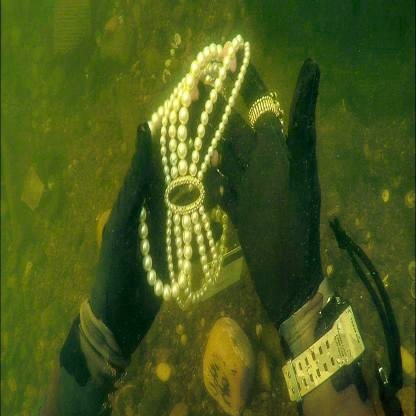misc: (136, 32, 251, 311)
